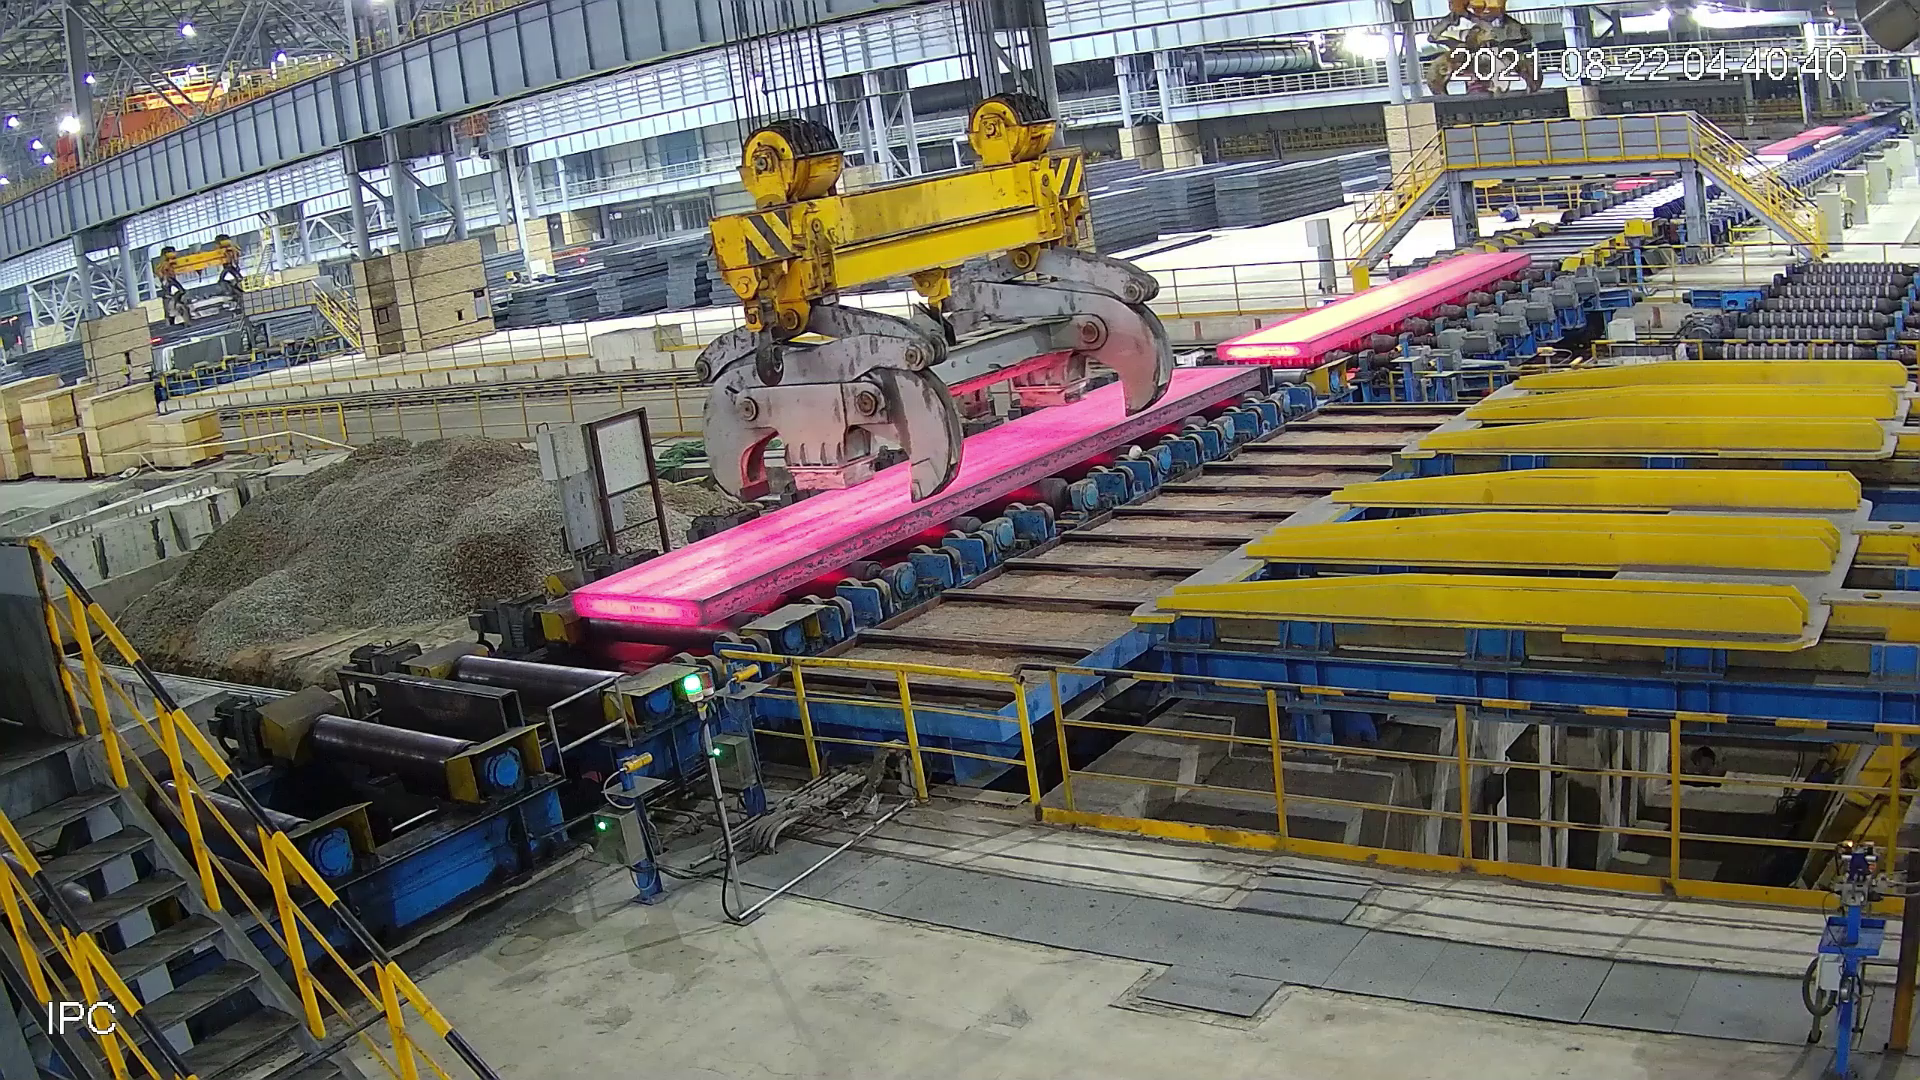crane: (687, 86, 1182, 498)
craneandslab: (1402, 1, 1557, 111)
slab: (558, 368, 1270, 634), (1217, 253, 1531, 364)
